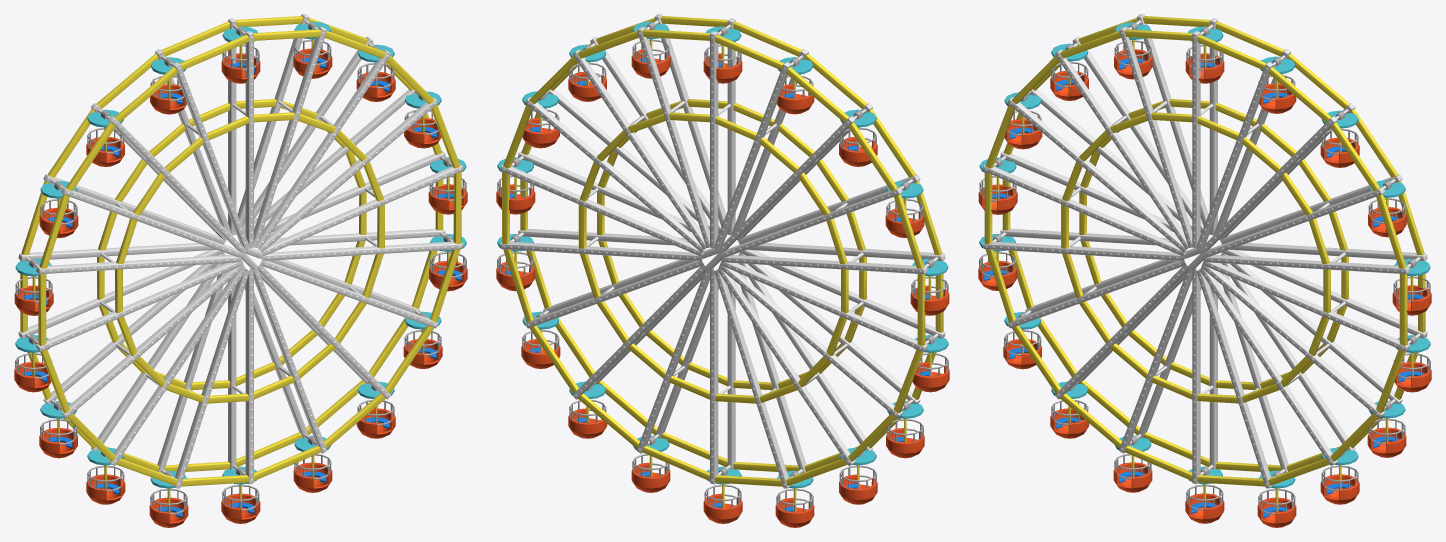
File: attraction_3_002.gltf
3 renders of one model, left to right at view 1: azimuth 30°, elevation 25°; view 2: azimuth 150°, elevation 25°; view 3: azimuth 330°, elevation 25°, orthographic.
Visible parts, largest first — view 1: attraction_3_002, attraction_3_003 (12), attraction_3_003 (11), attraction_3_003 (10), attraction_3_003 (8), attraction_3_003 (13), attraction_3_003 (9), attraction_3_003 (7), attraction_3_003 (15), attraction_3_003 (16), attraction_3_003 (14), attraction_3_003 (17) (+7 smaller); view 2: attraction_3_002, attraction_3_003 (12), attraction_3_003 (11), attraction_3_003 (10), attraction_3_003 (8), attraction_3_003 (9), attraction_3_003 (13), attraction_3_003 (7), attraction_3_003 (16), attraction_3_003 (15), attraction_3_003 (14), attraction_3_003 (17) (+7 smaller); view 3: attraction_3_002, attraction_3_003 (6), attraction_3_003 (7), attraction_3_003 (8), attraction_3_003 (10), attraction_3_003 (5), attraction_3_003 (9), attraction_3_003 (11), attraction_3_003 (3), attraction_3_003 (2), attraction_3_003 (4), attraction_3_003 (1) (+7 smaller).
Part boxes in pixels (x1,y1,x2,y2): attraction_3_002: [18, 14, 463, 488]; attraction_3_003 (12): [39, 401, 77, 458]; attraction_3_003 (11): [86, 447, 125, 504]; attraction_3_003 (10): [149, 470, 188, 527]; attraction_3_003 (8): [293, 435, 332, 492]; attraction_3_003 (13): [14, 335, 52, 392]; attraction_3_003 (9): [221, 466, 260, 523]; attraction_3_003 (7): [356, 381, 395, 438]; attraction_3_003 (15): [39, 181, 78, 237]; attraction_3_003 (16): [86, 109, 124, 166]; attraction_3_003 (14): [14, 258, 53, 315]; attraction_3_003 (17): [150, 57, 186, 114]; attraction_3_002: [500, 14, 945, 488]; attraction_3_003 (12): [886, 401, 924, 458]; attraction_3_003 (11): [839, 447, 877, 504]; attraction_3_003 (10): [775, 470, 814, 527]; attraction_3_003 (8): [631, 435, 670, 492]; attraction_3_003 (9): [703, 466, 742, 523]; attraction_3_003 (13): [911, 335, 949, 392]; attraction_3_003 (7): [568, 381, 607, 438]; attraction_3_003 (16): [839, 109, 877, 166]; attraction_3_003 (15): [885, 181, 924, 237]; attraction_3_003 (14): [910, 258, 949, 315]; attraction_3_003 (17): [777, 57, 814, 114]; attraction_3_002: [982, 14, 1427, 488]; attraction_3_003 (6): [1367, 400, 1406, 457]; attraction_3_003 (7): [1320, 447, 1359, 504]; attraction_3_003 (8): [1257, 470, 1296, 527]; attraction_3_003 (10): [1113, 435, 1152, 492]; attraction_3_003 (5): [1393, 335, 1431, 392]; attraction_3_003 (9): [1185, 466, 1224, 523]; attraction_3_003 (11): [1050, 381, 1089, 438]; attraction_3_003 (3): [1368, 180, 1406, 237]; attraction_3_003 (2): [1320, 110, 1359, 167]; attraction_3_003 (4): [1392, 258, 1431, 315]; attraction_3_003 (1): [1258, 56, 1296, 113].
Size of the model in its own units: 29.09 by 30.58 by 2.58.
2 materials, 1 textured.
